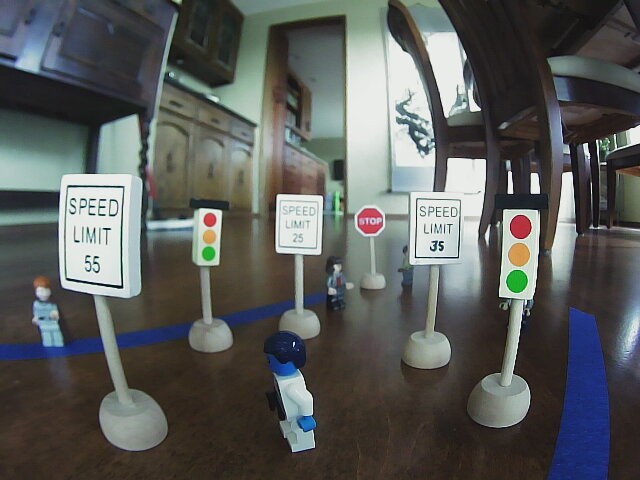SpeedLimit25: (276, 191, 319, 252)
SpeedLimit35: (411, 190, 458, 261)
SpeedLimit55: (59, 175, 136, 292)
StopSign: (353, 204, 389, 237)
TrafficLight: (497, 193, 537, 300), (189, 196, 222, 268)
person: (251, 321, 322, 455), (25, 272, 67, 357), (323, 254, 355, 312), (399, 245, 414, 293)
